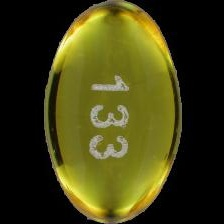68788-9054: (0, 0, 224, 224)
